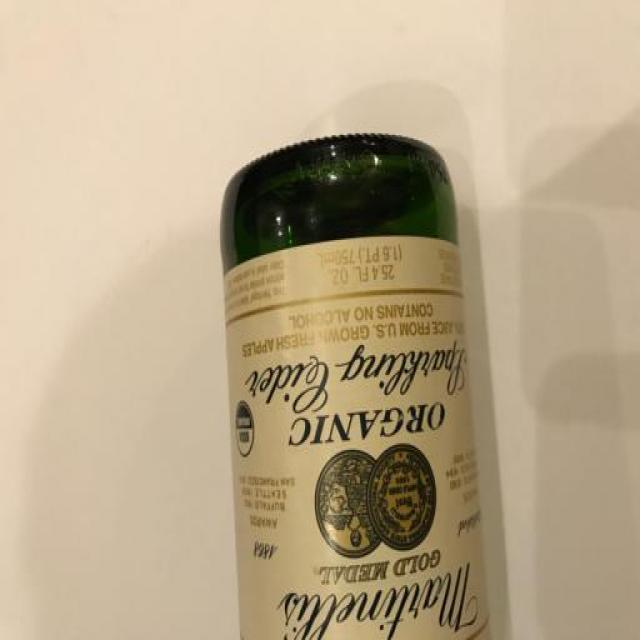glass: (202, 112, 514, 640)
